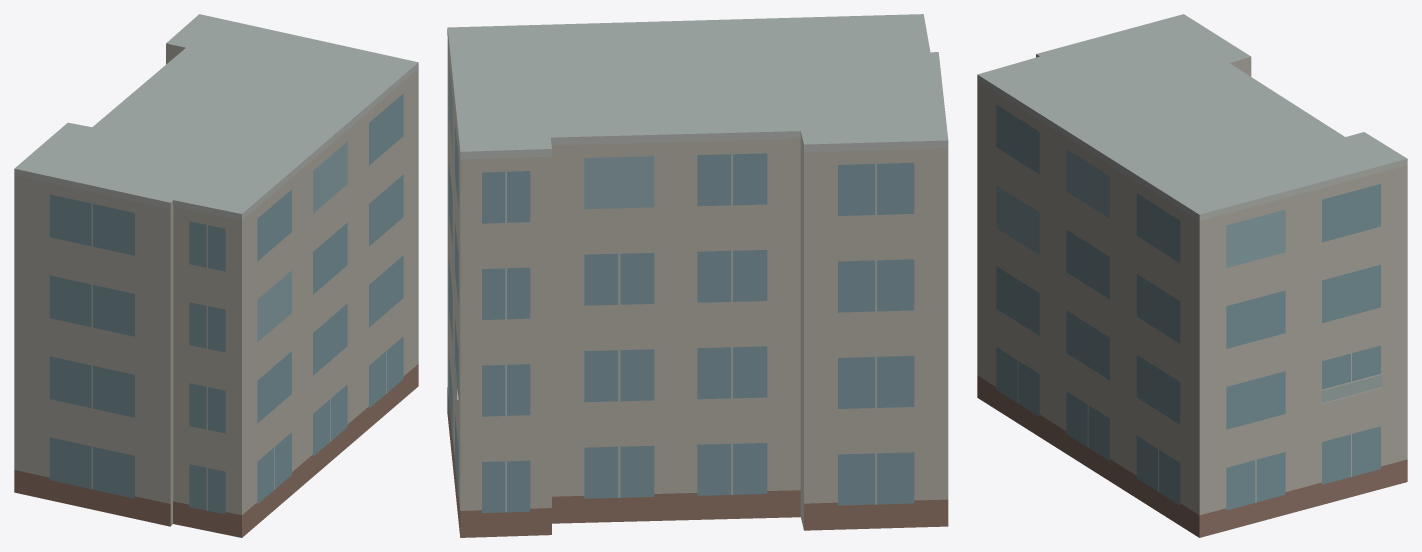
Rendered from survey-upis-32729847.glb.
3 renders of one model, left to right at view 1: azimuth 30°, elevation 25°; view 2: azimuth 150°, elevation 25°; view 3: azimuth 270°, elevation 25°, orthographic. The views are drawn at different scales.
Visible parts, largest first — view 1: survey-upis-32729847.tmp; view 2: survey-upis-32729847.tmp; view 3: survey-upis-32729847.tmp.
Boxes of the visible parts, bbox=[...] form: survey-upis-32729847.tmp: bbox=[14, 14, 418, 537]; survey-upis-32729847.tmp: bbox=[447, 14, 948, 537]; survey-upis-32729847.tmp: bbox=[977, 14, 1407, 537].
Size of the model in its own units: 16.26 by 12.2 by 14.73.
